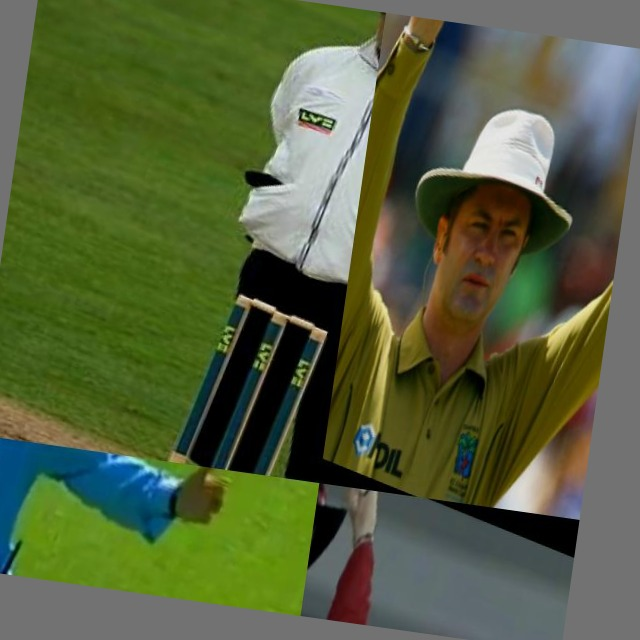No_Action: (98, 0, 386, 483)
No_Ball: (0, 435, 289, 612)
Six: (319, 13, 640, 520), (300, 483, 490, 640)
